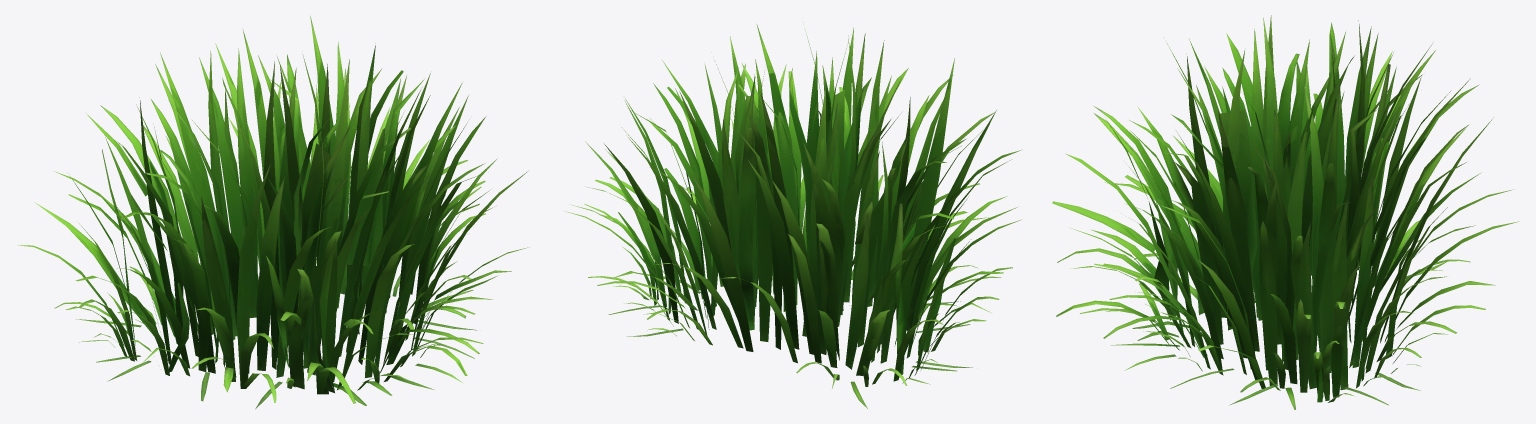
Rendered from gnd_temperate_grass_tuft.fbx.
The picture shows the model from 3 angles, left to right: view 1: azimuth 30°, elevation 25°; view 2: azimuth 150°, elevation 25°; view 3: azimuth 270°, elevation 25°; orthographic projection. The views are drawn at different scales.
Visible parts, largest first — view 1: gnd_temperate_grass_tuft_LOD0; view 2: gnd_temperate_grass_tuft_LOD0; view 3: gnd_temperate_grass_tuft_LOD0.
Part boxes in pixels (box(x1,y1,x2,y2)): gnd_temperate_grass_tuft_LOD0: box(18, 16, 528, 409); gnd_temperate_grass_tuft_LOD0: box(564, 24, 1022, 408); gnd_temperate_grass_tuft_LOD0: box(1052, 15, 1519, 409).
Size of what is drawn, in the model's own units: 0.9995 by 0.6948 by 0.9604.
